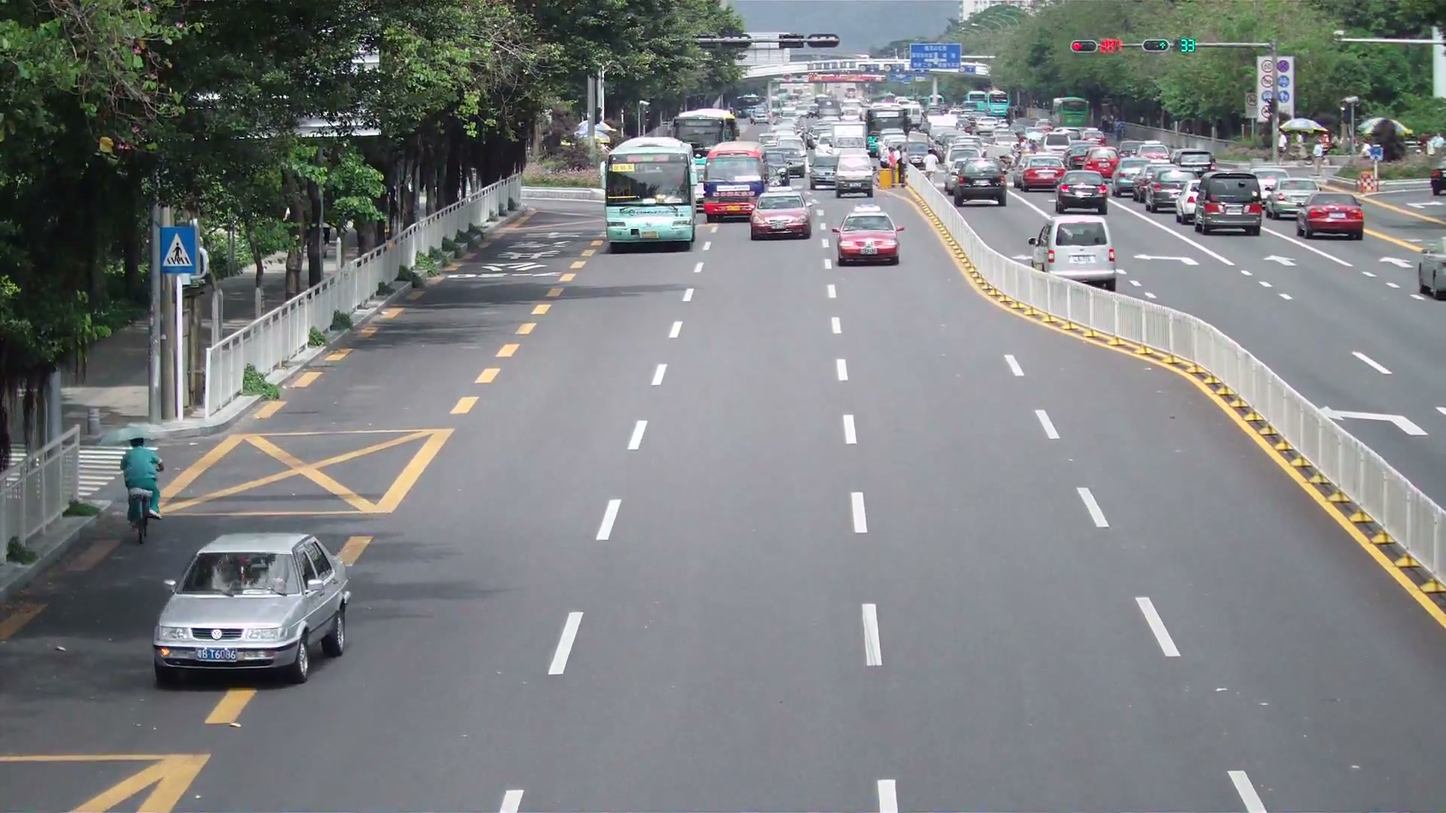bus: (602, 135, 698, 251), (671, 106, 738, 191), (703, 141, 766, 221), (672, 106, 738, 166)
car: (151, 531, 357, 687), (1026, 212, 1119, 290), (1190, 172, 1264, 237), (833, 207, 902, 266), (749, 190, 813, 240), (1296, 195, 1365, 240), (1052, 170, 1109, 215), (1136, 170, 1195, 212), (1265, 187, 1321, 219), (1019, 154, 1066, 190), (1264, 191, 1311, 218)
pedestrian: (120, 435, 165, 544)
truck: (836, 149, 877, 197)
